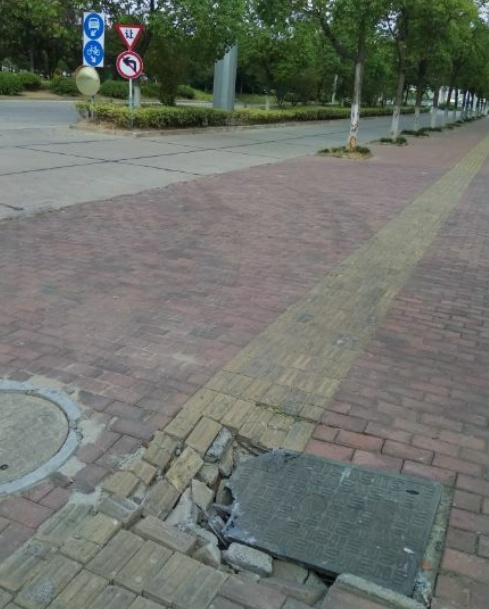broke: (172, 429, 454, 609)
good: (1, 378, 79, 491)
